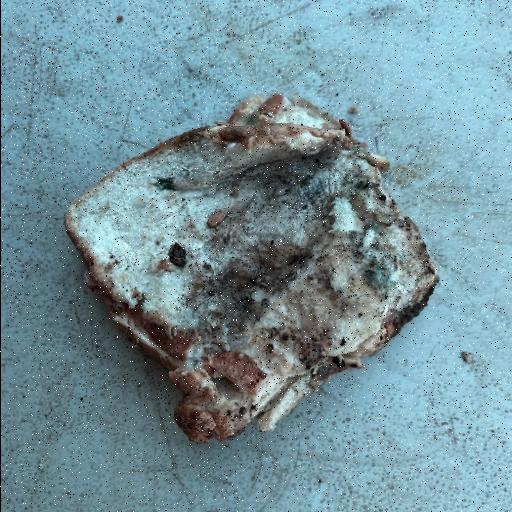Waste: (62, 92, 440, 444)
